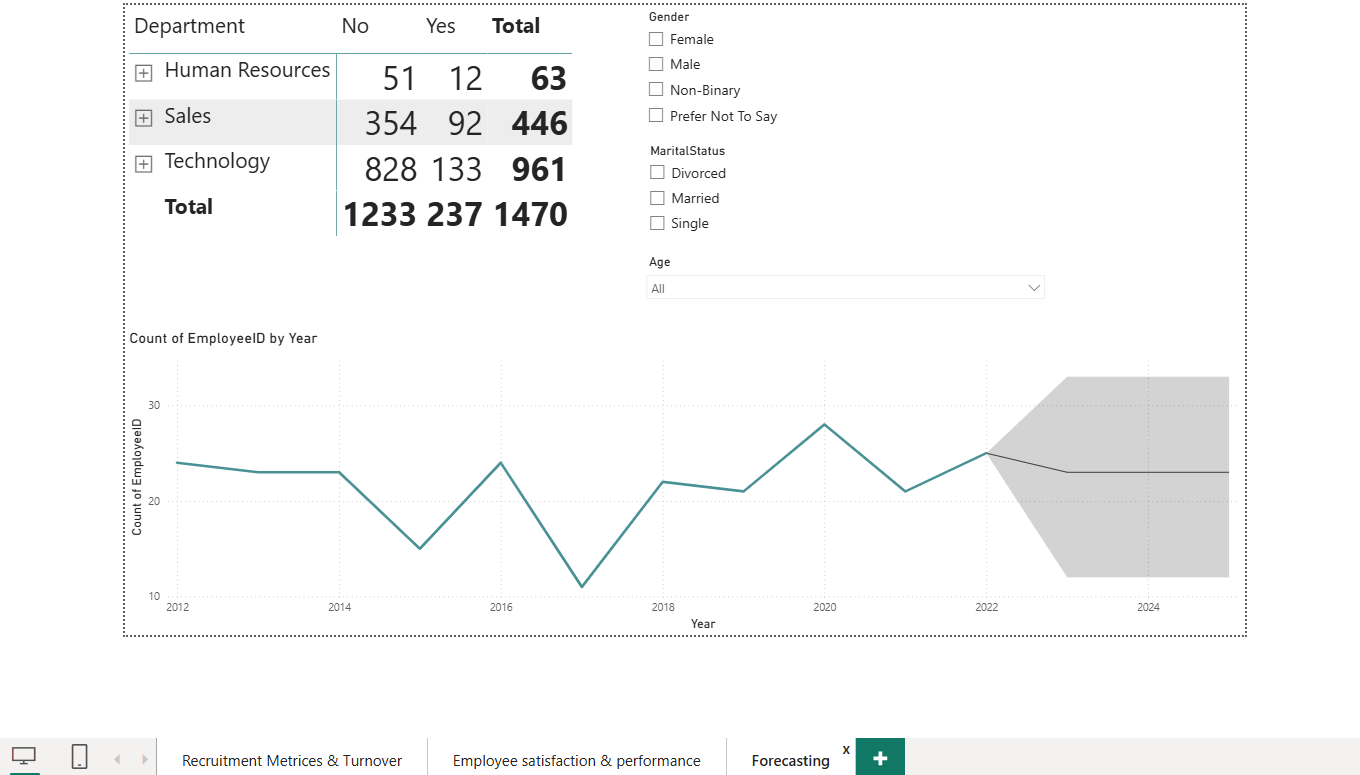

What the dashboard file says about the page in this screenshot:
{"tool":"powerbi","page":{"name":"Forecasting","canvas":[1280,720],"ordinal":2},"visuals":[{"type":"pivotTable","fields":{"Rows":["Employee.Department","Employee.JobRole"],"Columns":["Employee.Attrition"],"Values":["CountNonNull(Employee.EmployeeID)"]},"box":[0,0,585.7,360],"z":0},{"type":"slicer","fields":{"Values":["Employee.Gender"]},"box":[585.7,0,475.7,152.9],"z":1},{"type":"slicer","fields":{"Values":["Employee.MaritalStatus"]},"box":[587.1,152.9,475.7,127.1],"z":2},{"type":"slicer","fields":{"Values":["Employee.Age"]},"box":[585.7,280,475.7,80],"z":3},{"type":"lineChart","fields":{"Y":["CountNonNull(Employee.EmployeeID)"],"Category":["Employee.HireDate.Variation.Date Hierarchy.Year","Employee.HireDate.Variation.Date Hierarchy.Quarter","Employee.HireDate.Variation.Date Hierarchy.Month","Employee.HireDate.Variation.Date Hierarchy.Day"]},"box":[0,370,1280,350],"z":4}]}

Visuals, with their boxes on the page's 1280x720 design canvas (x1, y1, x2, y2). These are canvas units, not pixel positions in the 1360x775 screenshot, which may show the page scaled, cropped or inside an application window:
pivotTable - Employee.Department x Employee.JobRole: select_region(0, 0, 586, 360)
slicer - Employee.Gender: select_region(586, 0, 1061, 153)
slicer - Employee.MaritalStatus: select_region(587, 153, 1063, 280)
slicer - Employee.Age: select_region(586, 280, 1061, 360)
lineChart - CountNonNull(Employee.EmployeeID) x Employee.HireDate.Variation.Date Hierarchy.Year: select_region(0, 370, 1280, 720)
